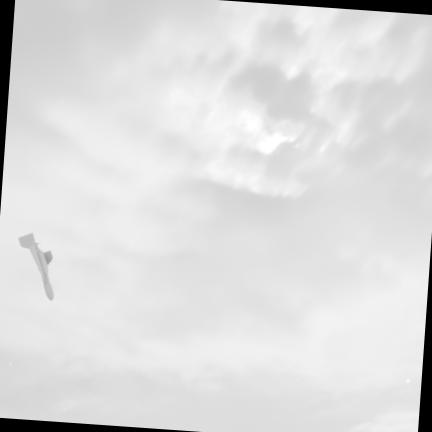Shahed: (19, 233, 53, 299)
